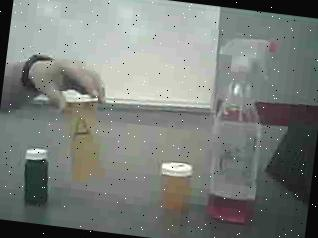Bottle A: (53, 86, 114, 184)
Bottle B: (151, 154, 201, 219)
Bottle C: (15, 145, 58, 212)
hazard: (197, 31, 294, 232)
